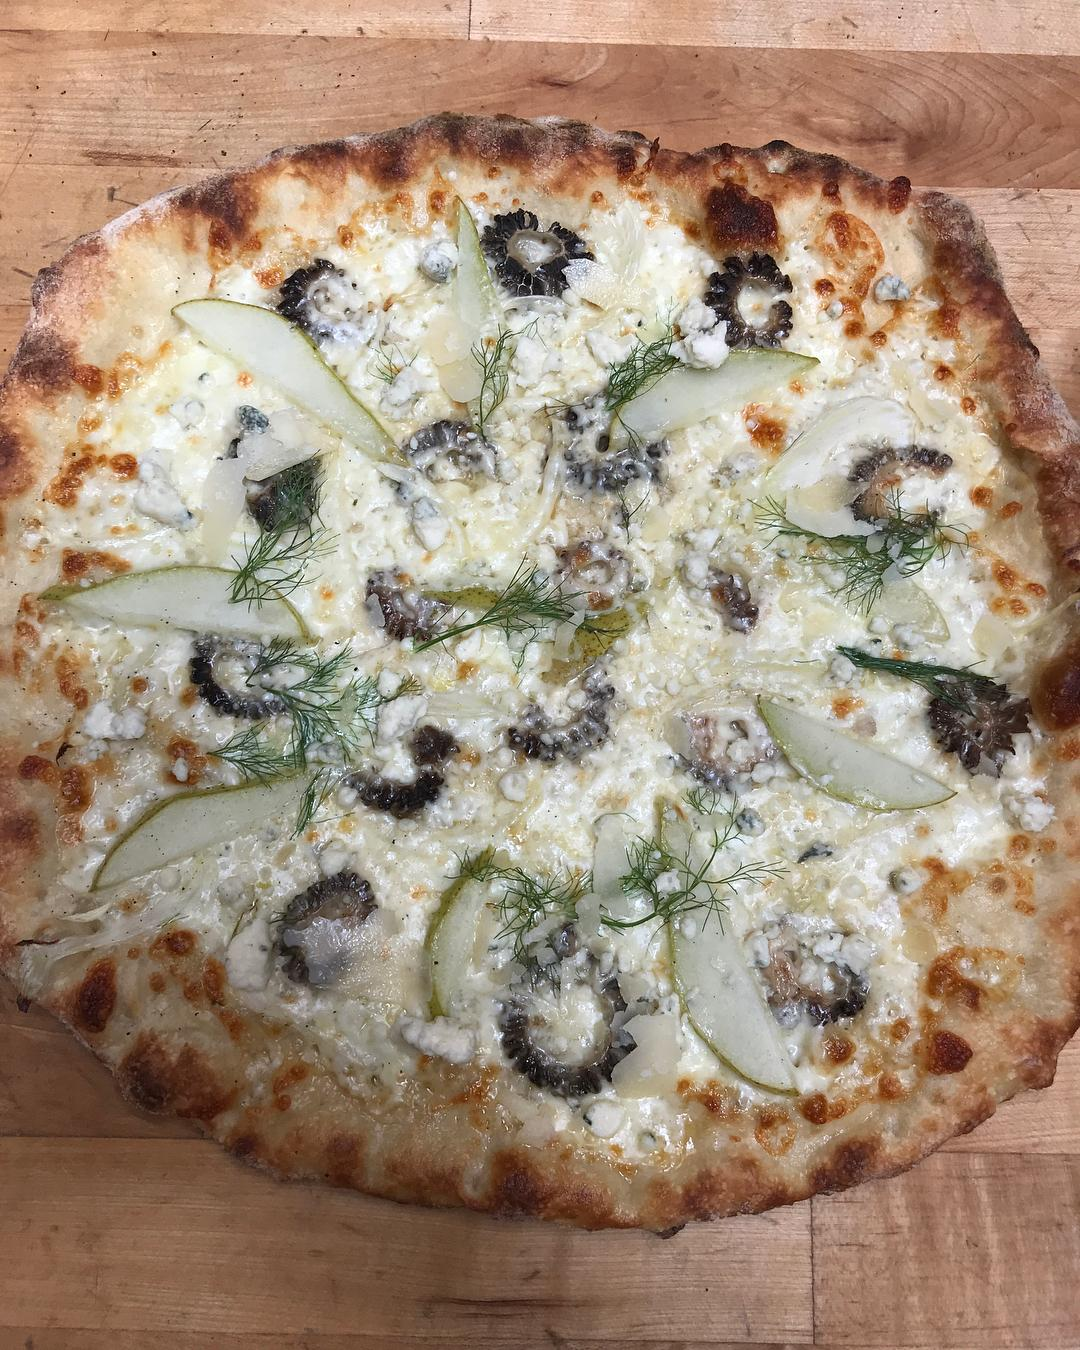Pizza: (0, 117, 1080, 1228)
